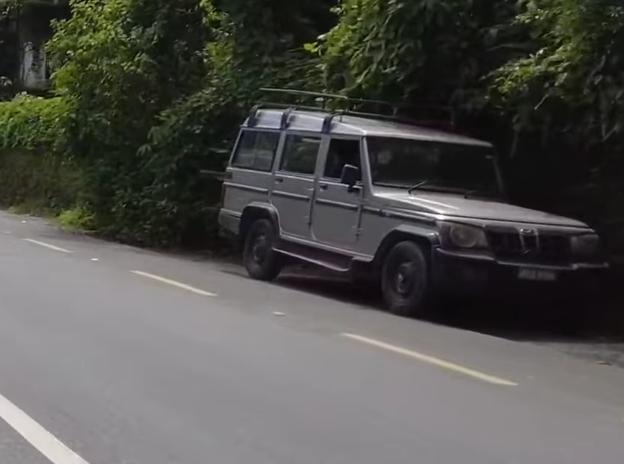SUV: (208, 80, 615, 332)
